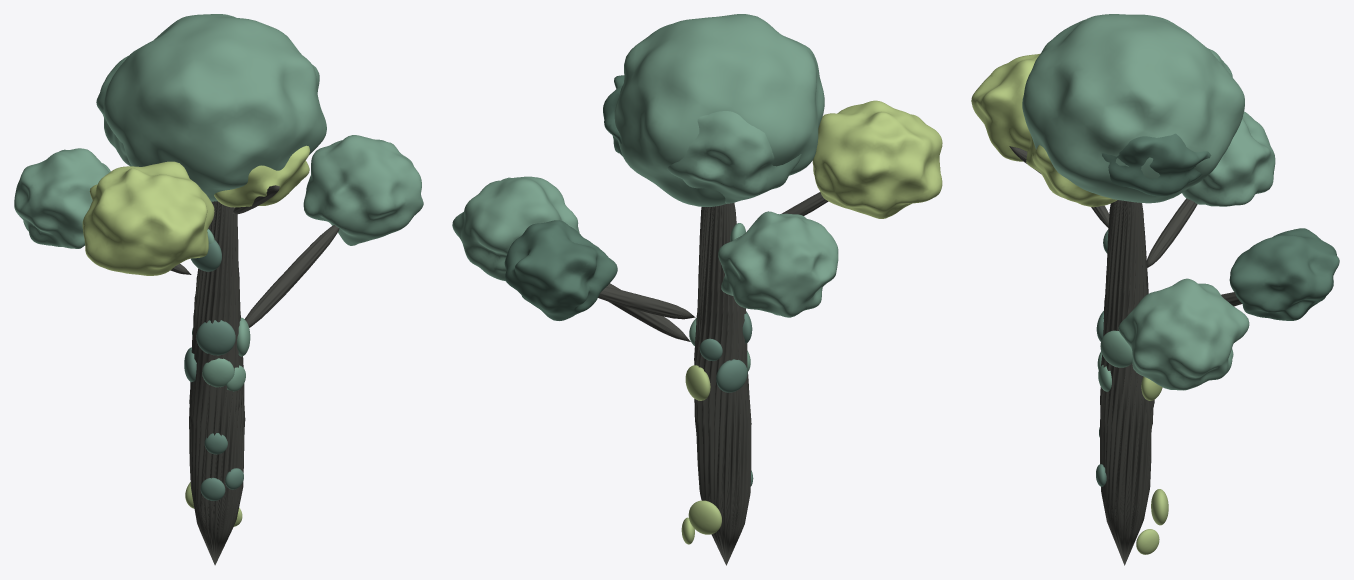
The model's file is gnarled_tree_b.glb.
The picture shows the model from 3 angles, left to right: view 1: azimuth 30°, elevation 25°; view 2: azimuth 150°, elevation 25°; view 3: azimuth 270°, elevation 25°; orthographic projection.
Visible parts, largest first — view 1: GnarledTree; view 2: GnarledTree; view 3: GnarledTree.
Part boxes in pixels (bbox=[...]): GnarledTree: bbox=[14, 14, 423, 565]; GnarledTree: bbox=[452, 14, 942, 565]; GnarledTree: bbox=[971, 14, 1339, 565].
Size of the model in its own units: 6.86 by 8.75 by 5.37.
